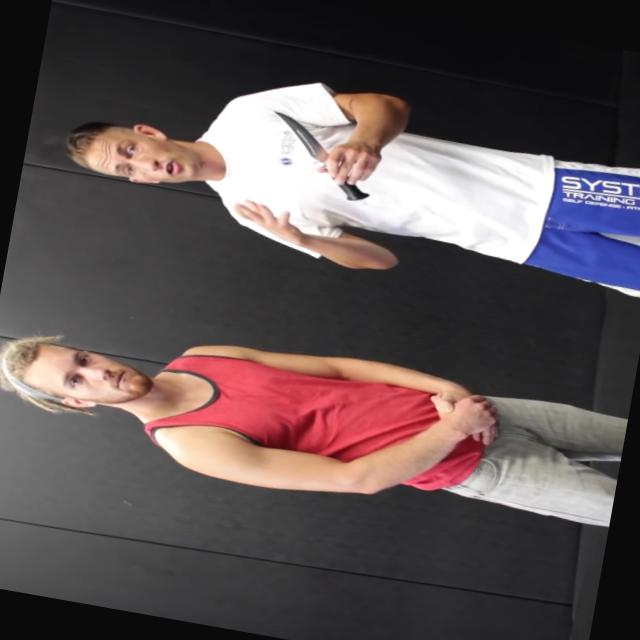knife: (250, 103, 386, 207)
